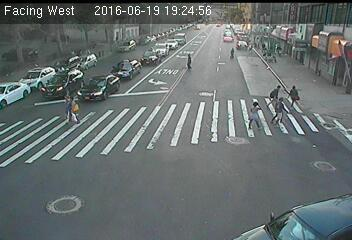neg: (274, 183, 300, 217), (54, 145, 76, 174), (143, 29, 160, 52), (127, 85, 143, 105), (315, 33, 330, 53), (204, 19, 216, 35), (114, 56, 125, 71), (188, 132, 199, 146), (158, 112, 168, 126), (204, 87, 214, 100), (228, 46, 238, 58)
pos: (241, 98, 266, 130), (61, 93, 82, 122), (270, 95, 290, 122), (284, 83, 303, 108), (264, 81, 281, 104), (184, 52, 197, 69), (260, 41, 267, 52)
